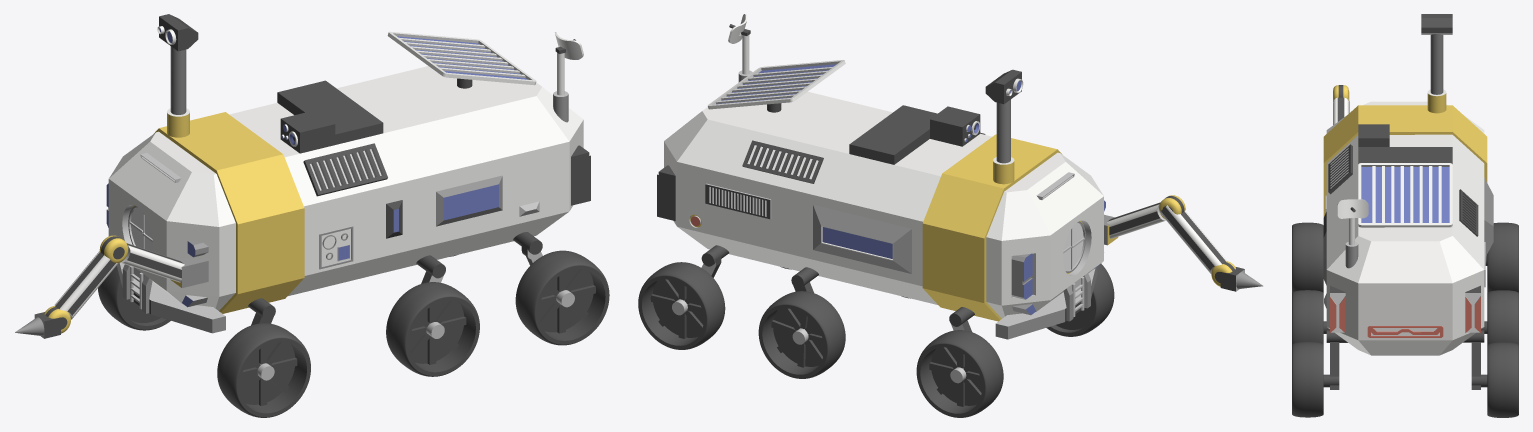
The model's file is rover_allo.glb.
3 renders of one model, left to right at view 1: azimuth 30°, elevation 25°; view 2: azimuth 150°, elevation 25°; view 3: azimuth 270°, elevation 25°, orthographic. The views are drawn at different scales.
Parts seen in each view (by area): view 1: rover2, rover2.025, rover2.023, rover2.024, rover2.022; view 2: rover2, rover2.022, rover2.021, rover2.020, rover2.025; view 3: rover2, rover2.020, rover2.023, rover2.025, rover2.022, rover2.021, rover2.024.
Part boxes in pixels (x1=…): rover2: x1=15, y1=14, x2=590, y2=338; rover2.025: x1=217, y1=323, x2=310, y2=417; rover2.023: x1=515, y1=250, x2=609, y2=345; rover2.024: x1=386, y1=282, x2=479, y2=376; rover2.022: x1=98, y1=266, x2=170, y2=330; rover2: x1=657, y1=14, x2=1262, y2=339; rover2.022: x1=916, y1=330, x2=1003, y2=417; rover2.021: x1=758, y1=291, x2=845, y2=378; rover2.020: x1=638, y1=262, x2=725, y2=349; rover2.025: x1=1046, y1=263, x2=1114, y2=336; rover2: x1=1323, y1=14, x2=1493, y2=389; rover2.020: x1=1487, y1=342, x2=1518, y2=417; rover2.023: x1=1292, y1=342, x2=1323, y2=417; rover2.025: x1=1292, y1=222, x2=1323, y2=292; rover2.022: x1=1487, y1=222, x2=1518, y2=292; rover2.021: x1=1487, y1=290, x2=1518, y2=344; rover2.024: x1=1292, y1=290, x2=1323, y2=344.
Size of the model in its own units: 17.39 by 9.61 by 7.2.
